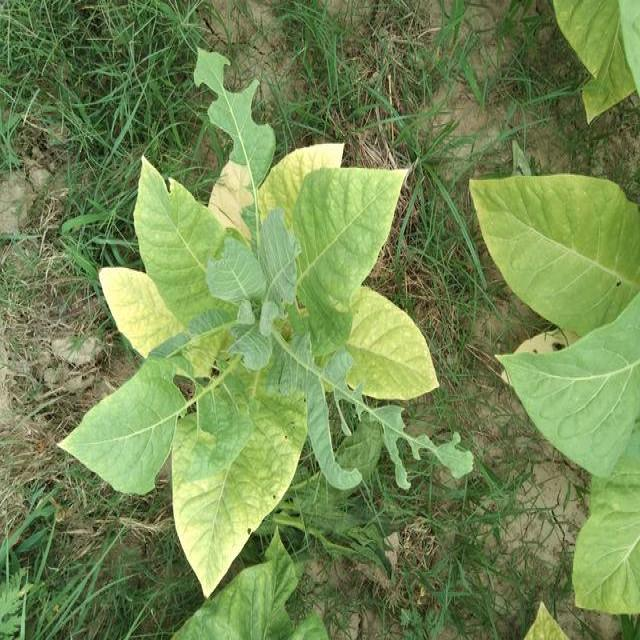crop: (62, 134, 442, 594)
